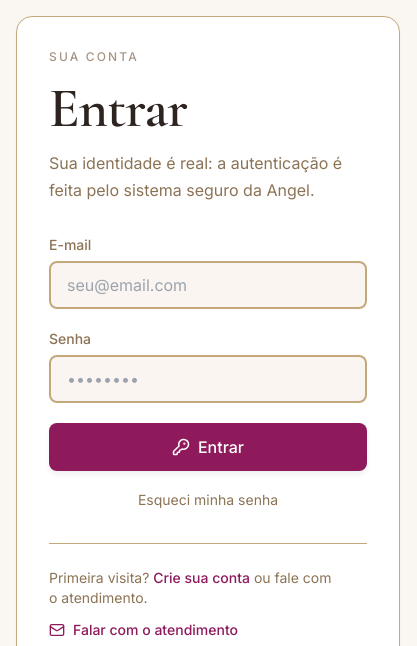
Test: EntrarPage › mostra o erro real do provedor
Type "ana@email.com" into the field labelled "E-mail" at (208, 285), box [49,261,367,309]
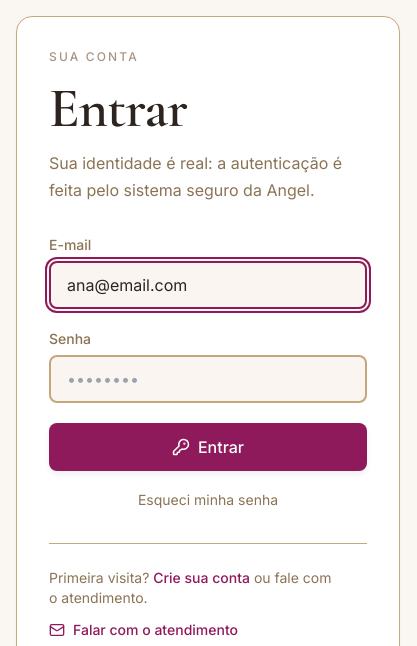
Type "errada" into the password field labelled "Senha" at (208, 379), box [49,355,367,403]
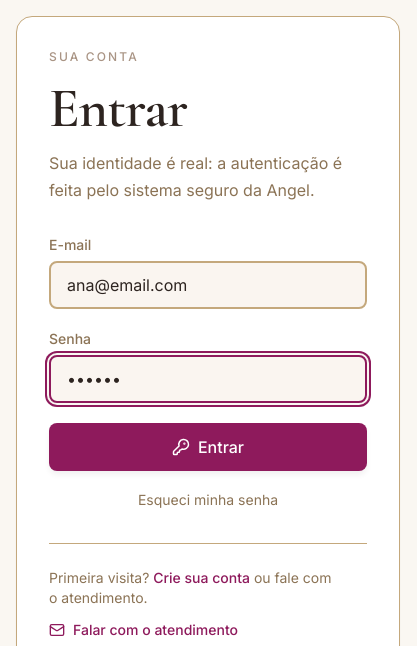
Click the button "Entrar" at (208, 447), box [49,423,367,471]
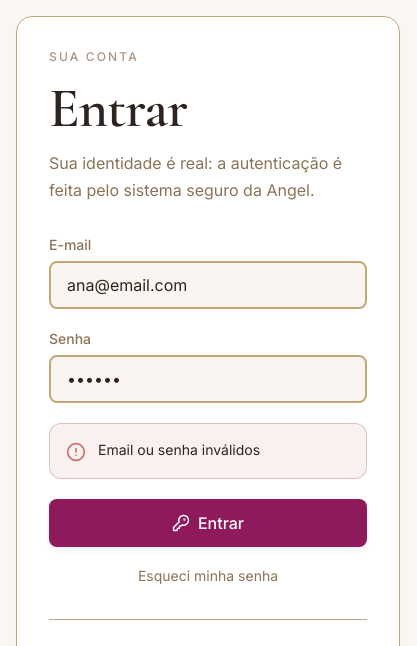
expect the message "Email ou senha inválidos" is shown: met, box [49,423,367,479]
expect the text "Email ou senha inválidos" is shown: met, box [98,440,260,460]
